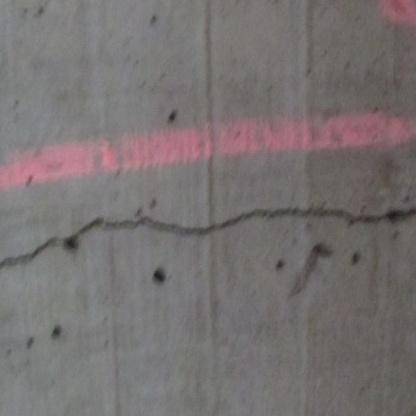Cracks: (0, 207, 416, 288)
